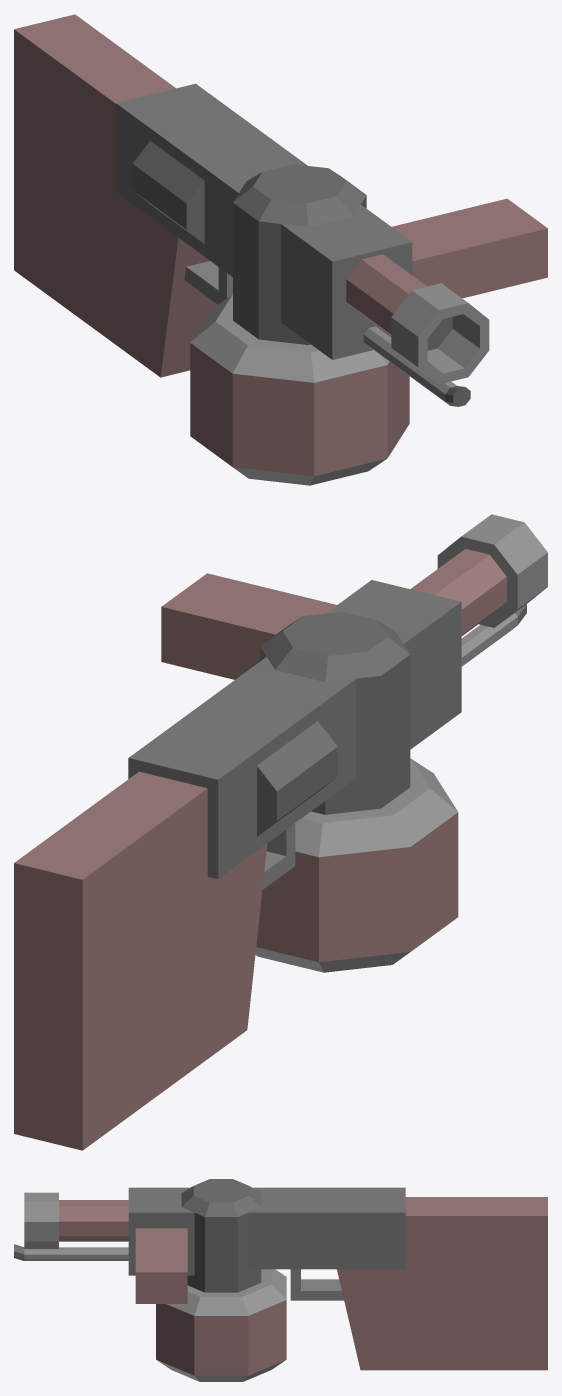
File: flamethrowerHandle.glb
3 views of the same model, one above another, from view 1: azimuth 30°, elevation 25°; view 2: azimuth 150°, elevation 25°; view 3: azimuth 270°, elevation 25° (orthographic). The views are drawn at different scales.
Parts seen in each view (by area): view 1: flamethrowerHandle; view 2: flamethrowerHandle; view 3: flamethrowerHandle.
Boxes of the visible parts, left/top/right/bottom form: flamethrowerHandle: left=14, top=14, right=547, bottom=485; flamethrowerHandle: left=14, top=514, right=547, bottom=1150; flamethrowerHandle: left=14, top=1179, right=547, bottom=1381.
Bounding box in the file's own units: 0.0344 × 0.0324 × 0.0923.
